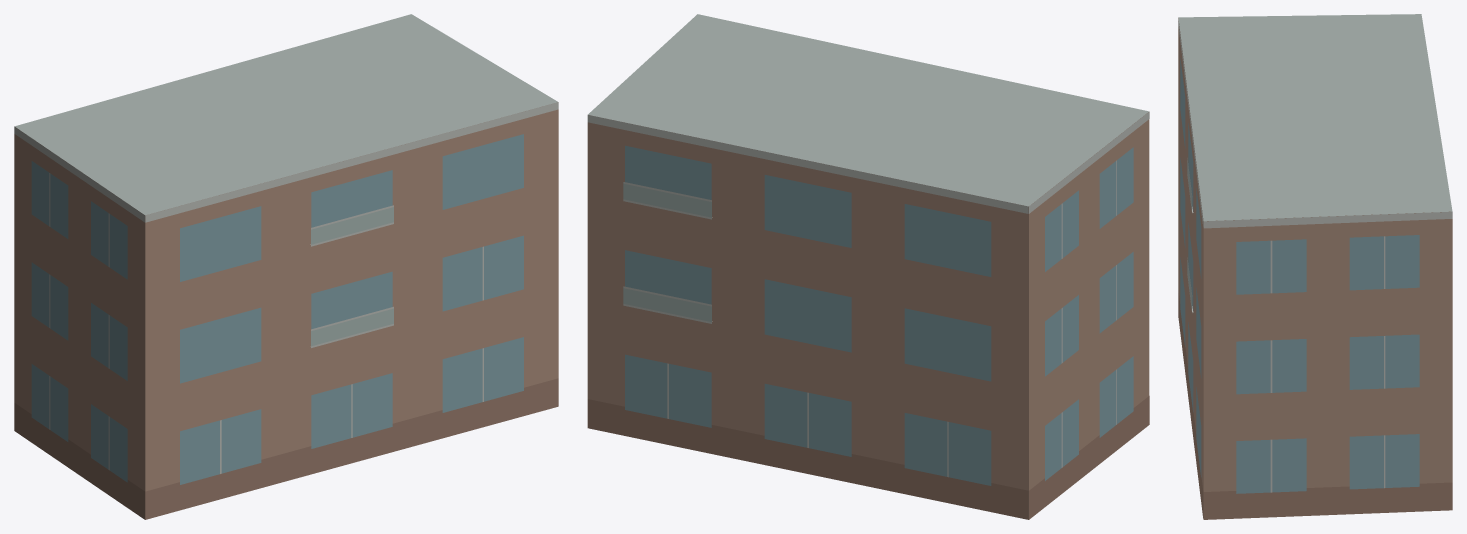
File: survey-upis-32988413.glb
3 renders of one model, left to right at view 1: azimuth 30°, elevation 25°; view 2: azimuth 150°, elevation 25°; view 3: azimuth 270°, elevation 25°, orthographic. The views are drawn at different scales.
Visible parts, largest first — view 1: survey-upis-32988413.tmp; view 2: survey-upis-32988413.tmp; view 3: survey-upis-32988413.tmp.
Part boxes in pixels (x1,y1,x2,y2): survey-upis-32988413.tmp: (14,14,558,519); survey-upis-32988413.tmp: (587,14,1149,519); survey-upis-32988413.tmp: (1178,14,1452,519).
Bounding box in the file's own units: 15.04 × 10.1 × 8.41.
